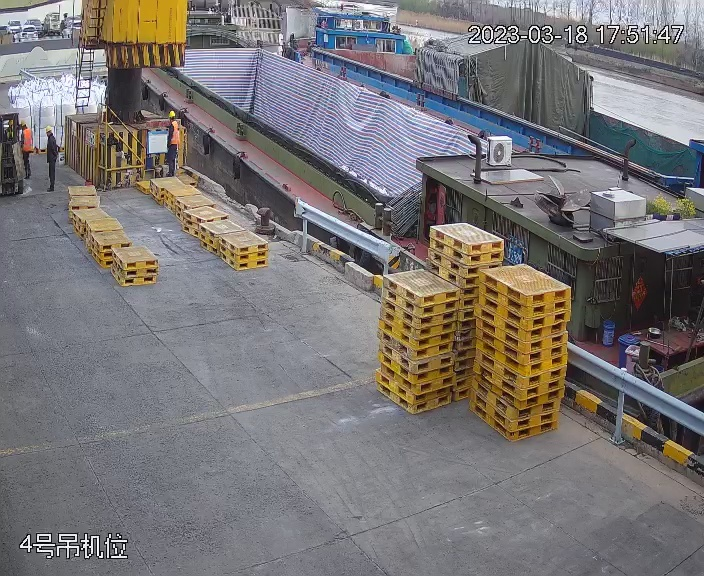head: (166, 109, 181, 131), (43, 125, 58, 144), (18, 119, 32, 138)
helmet: (45, 125, 54, 132), (167, 110, 176, 117), (20, 119, 27, 127)
people: (165, 108, 183, 180), (42, 124, 61, 191), (17, 119, 34, 177)
